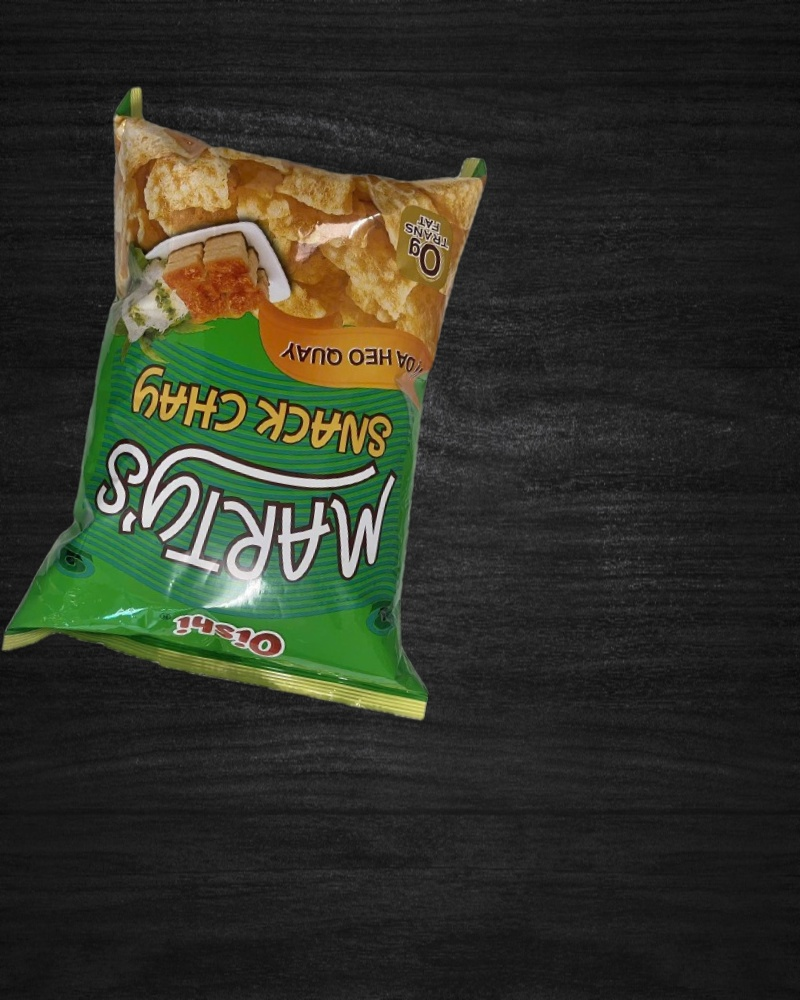Snack chay: (21, 86, 523, 726)
